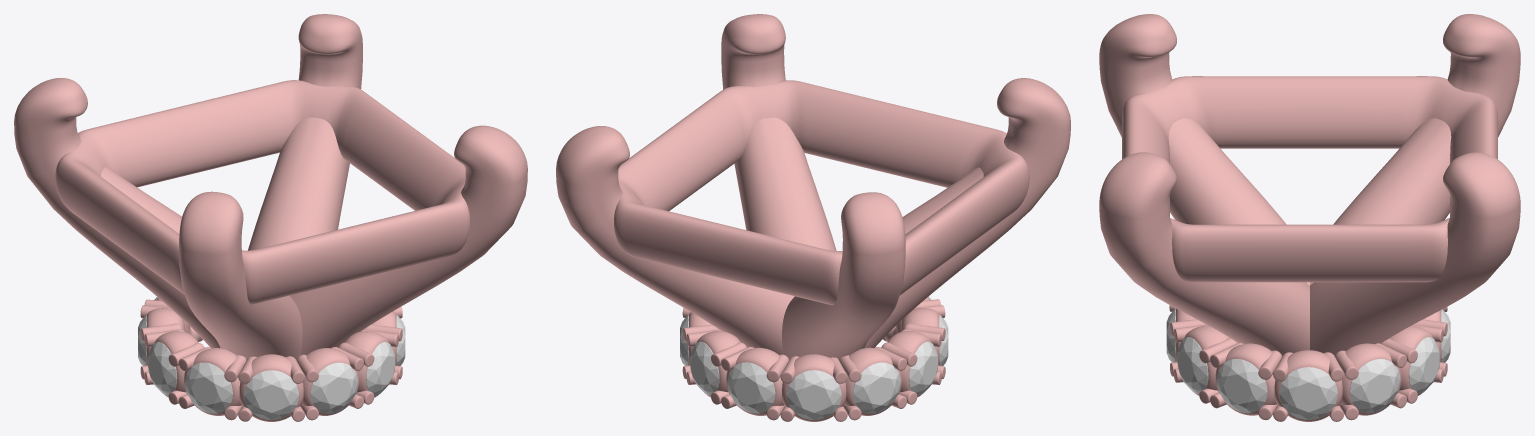
The model's file is RADIANT.glb.
The picture shows the model from 3 angles, left to right: view 1: azimuth 30°, elevation 25°; view 2: azimuth 150°, elevation 25°; view 3: azimuth 270°, elevation 25°; orthographic projection. The views are drawn at different scales.
Parts seen in each view (by area): view 1: radiant.002, hidden halo.009, hidden halo - diamonds.009; view 2: radiant.002, hidden halo.009, hidden halo - diamonds.009; view 3: radiant.002, hidden halo.009, hidden halo - diamonds.009.
Boxes of the visible parts, bbox=[...] form: radiant.002: bbox=[14, 14, 527, 359]; hidden halo.009: bbox=[140, 297, 402, 421]; hidden halo - diamonds.009: bbox=[138, 297, 405, 420]; radiant.002: bbox=[556, 14, 1070, 359]; hidden halo.009: bbox=[682, 297, 945, 421]; hidden halo - diamonds.009: bbox=[680, 296, 948, 420]; radiant.002: bbox=[1099, 14, 1520, 355]; hidden halo.009: bbox=[1169, 305, 1447, 421]; hidden halo - diamonds.009: bbox=[1166, 308, 1450, 420].
Size of the model in its own units: 5.57 by 4.3 by 5.57.
